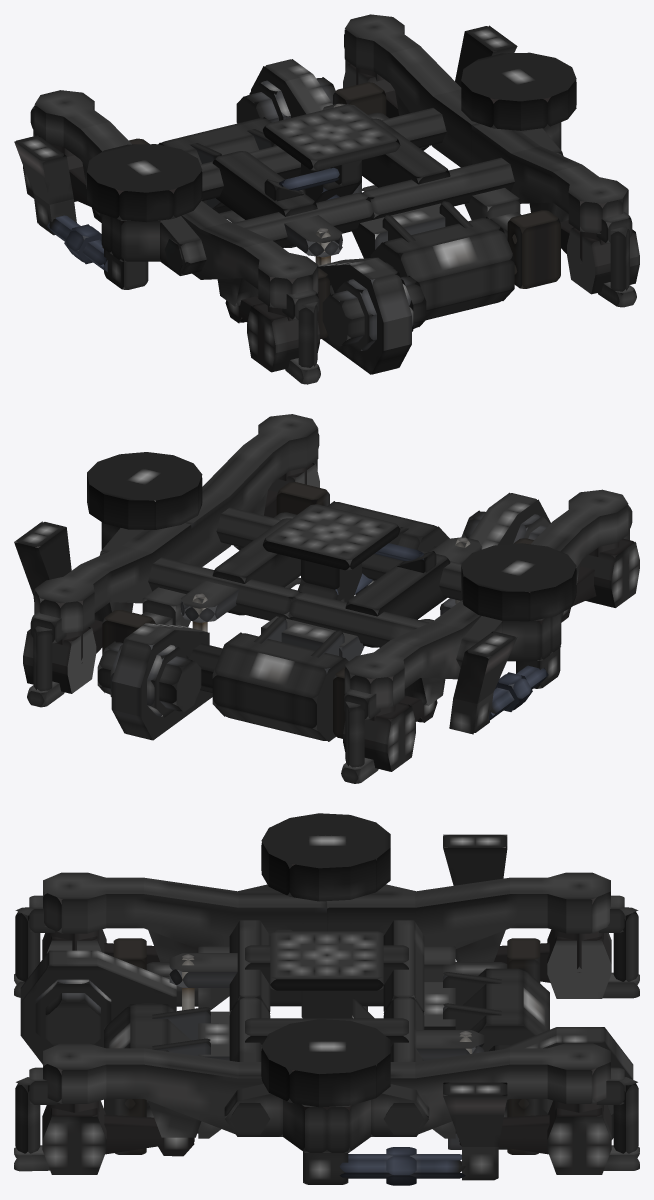
Rendered from DT206_frame.obj.
The picture shows the model from 3 angles, top to bottom: view 1: azimuth 30°, elevation 25°; view 2: azimuth 150°, elevation 25°; view 3: azimuth 270°, elevation 25°; orthographic projection. The views are drawn at different scales.
Parts seen in each view (by area): view 1: cylinder, mesh, 空气弹簧囊, cube, 横梁, 油压减震器架, 油压减振器; view 2: cylinder, mesh, cube, 空气弹簧囊, 横梁, 油压减振器; view 3: cylinder, mesh, cube, 空气弹簧囊, 横梁.
Part boxes in pixels (x1,y1,x2,y2): cylinder: [23, 14, 639, 374]; mesh: [14, 25, 563, 339]; 空气弹簧囊: [87, 52, 576, 222]; cube: [30, 34, 636, 384]; 横梁: [100, 108, 561, 273]; 油压减震器架: [264, 160, 361, 201]; 油压减振器: [279, 167, 339, 190]; cylinder: [23, 414, 639, 771]; mesh: [14, 482, 563, 738]; cube: [27, 433, 632, 783]; 空气弹簧囊: [87, 452, 576, 621]; 横梁: [101, 507, 563, 647]; 油压减振器: [374, 543, 423, 561]; cylinder: [20, 872, 633, 1185]; mesh: [113, 834, 540, 1184]; cube: [14, 895, 639, 1171]; 空气弹簧囊: [261, 813, 390, 1107]; 横梁: [229, 920, 424, 1134].
Size of the model in its own units: 3.06 by 0.8749 by 3.1.
Materials: 1 (1 with a texture image).
